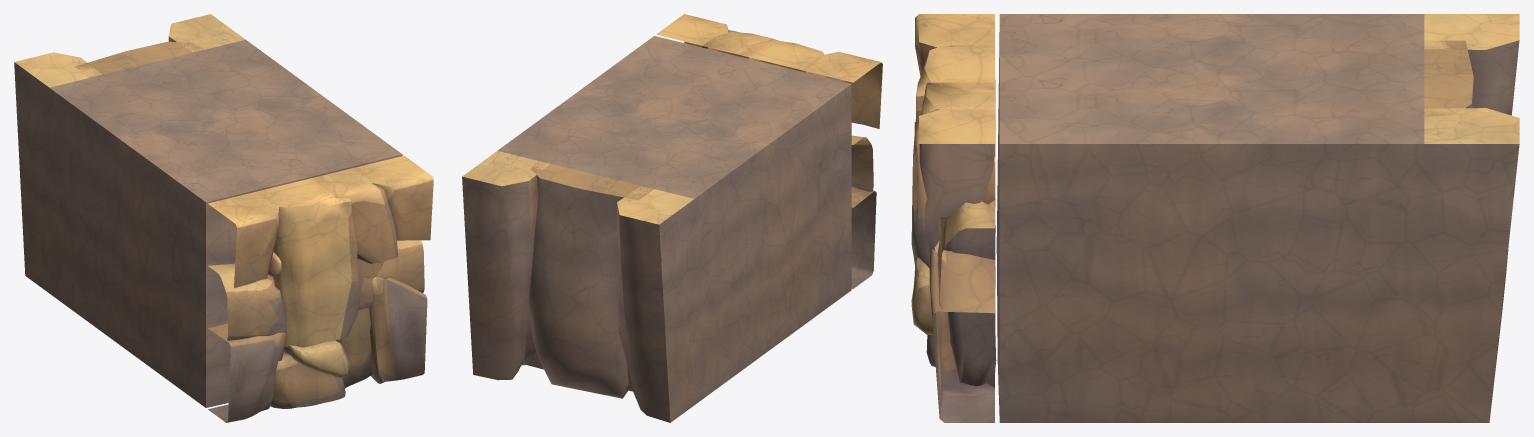
Rendered from T04_BareRockCore_V2.fbx.
3 views of the same model, side by side, from view 1: azimuth 30°, elevation 25°; view 2: azimuth 150°, elevation 25°; view 3: azimuth 270°, elevation 25° (orthographic). The views are drawn at different scales.
Visible parts, largest first — view 1: T04_BareRockCore_V2; view 2: T04_BareRockCore_V2; view 3: T04_BareRockCore_V2.
Boxes of the visible parts, x1=… form: T04_BareRockCore_V2: x1=14, y1=14, x2=433, y2=422; T04_BareRockCore_V2: x1=462, y1=14, x2=882, y2=422; T04_BareRockCore_V2: x1=911, y1=14, x2=1519, y2=422.
Size of the model in its own units: 2 by 2.02 by 3.95.
